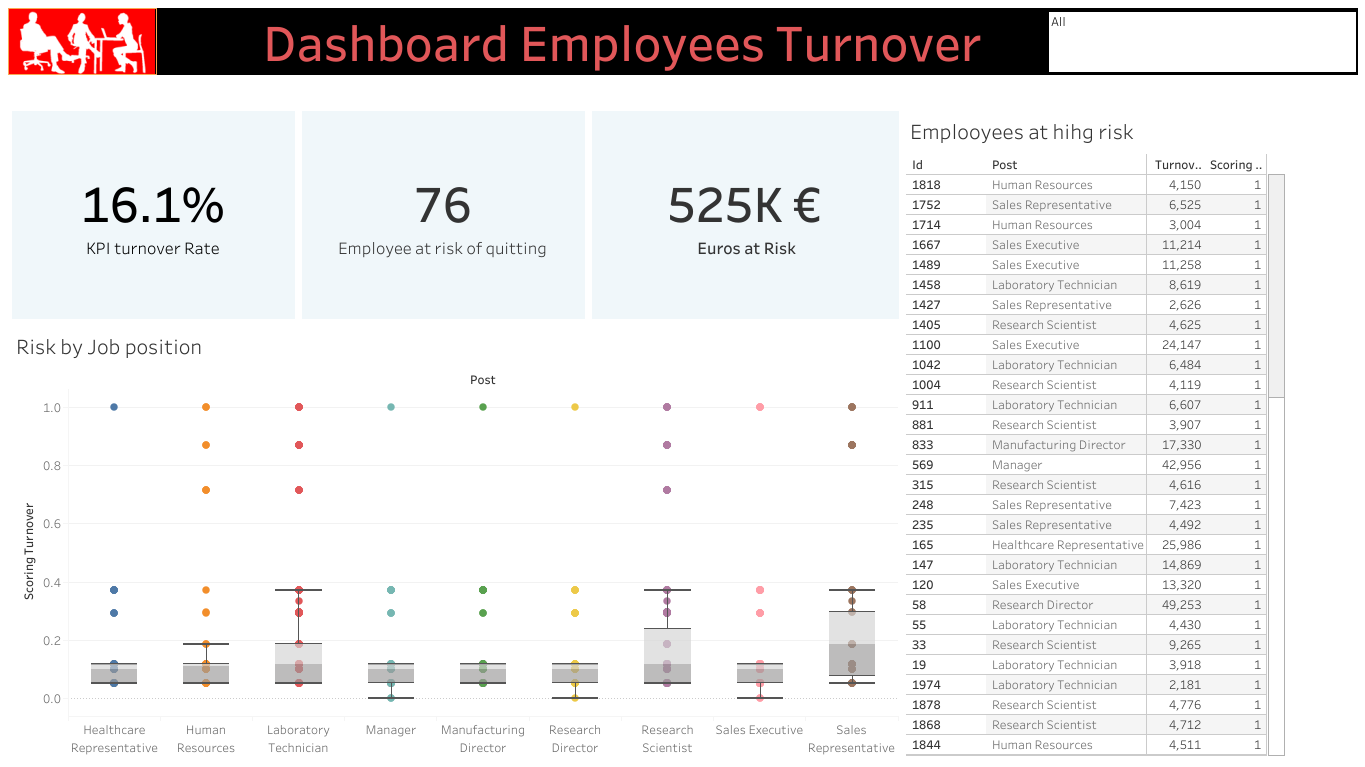

What the dashboard file says about the page in this screenshot:
{"tool":"tableau","page":{"name":"Employee turnover costs calculation","canvas":[1366,768],"ordinal":0},"visuals":[{"type":"image","param":"Image/logo_dashboard.png","box":[8,8,149,67]},{"type":"text","box":[157,8,1201,67]},{"type":"filter","title":"KPI turnover Rate","param":"[federated.1vwcuie1fx16if165e62h04rolr4].[none:department:nk]","box":[1049,12,307,60]},{"type":"text","box":[8,75,1350,32]},{"type":"worksheet","title":"KPI turnover Rate","mark":"Automatic","box":[8,107,290.2,215]},{"type":"worksheet","title":"Employee at risk of quitting","mark":"Automatic","box":[298.2,107,290.2,215]},{"type":"worksheet","title":"KPI Euros at Risk","mark":"Automatic","box":[588.3,107,313.4,215]},{"type":"worksheet","title":"Emplooyees at hihg risk","mark":"Automatic","rows":["id","post"],"box":[901.8,107,456.2,653]},{"type":"worksheet","title":"Risk by Job position","mark":"Circle","rows":["scoring_turnover"],"cols":["post"],"box":[8,322,893.8,438]}]}

Visuals, with their boxes in screenshot pixels (x1, y1, x2, y2), scaled from the page's 1366x768 canvas onto the 1365x767 screenshot:
image: bbox=(8, 8, 157, 75)
text: bbox=(157, 8, 1357, 75)
"KPI turnover Rate" filter: bbox=(1048, 12, 1355, 72)
text: bbox=(8, 75, 1357, 107)
"KPI turnover Rate" worksheet: bbox=(8, 107, 298, 322)
"Employee at risk of quitting" worksheet: bbox=(298, 107, 588, 322)
"KPI Euros at Risk" worksheet: bbox=(588, 107, 901, 322)
"Emplooyees at hihg risk" worksheet: bbox=(901, 107, 1357, 759)
"Risk by Job position" worksheet (Circle marks): bbox=(8, 322, 901, 759)
